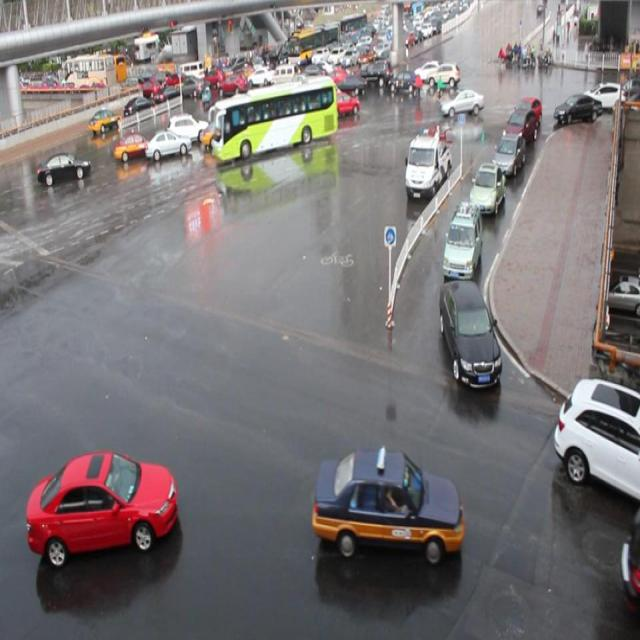bus: (402, 129, 452, 202)
car: (311, 446, 463, 560), (27, 450, 178, 564), (552, 376, 640, 498), (439, 278, 500, 386), (442, 200, 481, 276), (36, 146, 89, 184), (252, 96, 302, 133), (467, 162, 504, 212), (199, 112, 247, 150), (144, 126, 192, 160), (166, 108, 209, 144), (490, 132, 524, 176), (440, 87, 482, 118), (504, 108, 536, 148), (113, 129, 153, 158), (323, 90, 358, 119), (517, 94, 543, 132)
truck: (288, 75, 332, 115), (228, 90, 271, 128)
van: (212, 80, 335, 158)
